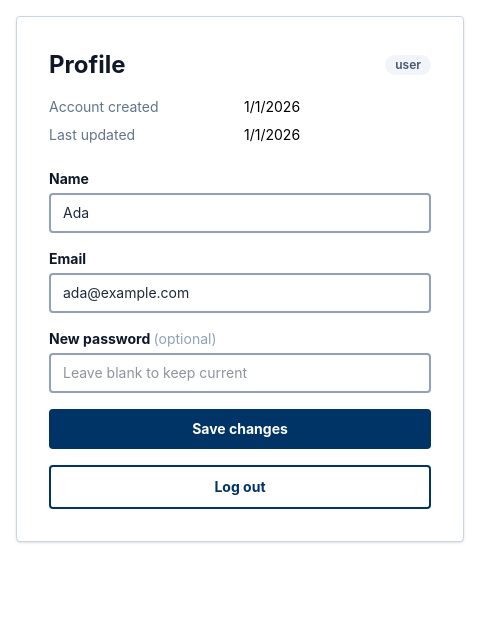
Test: Profile › prefills the form and saves profile changes
Replace the text in the field labelled "Name" with "Grace" at (240,213), box [49,193,431,233]
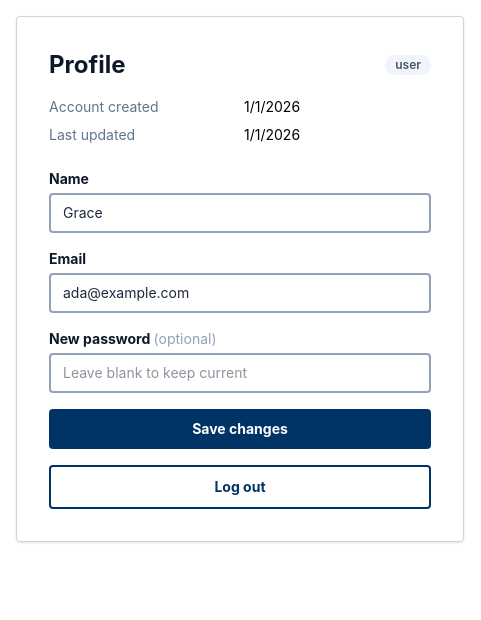
Click the button "Save changes" at (240,429), box [49,409,431,449]
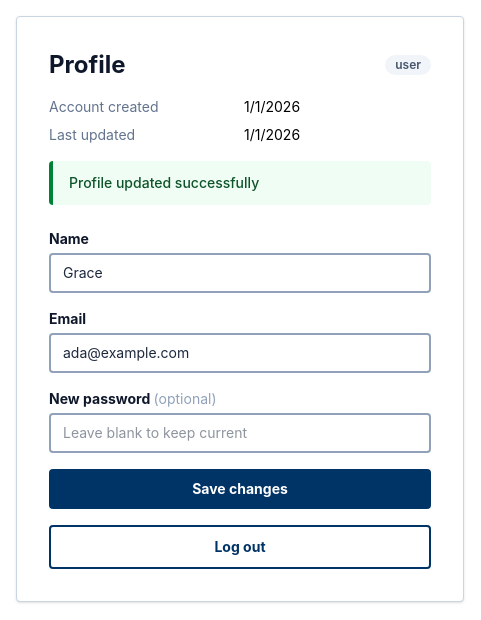
Expected: the text "Profile updated successfully" is shown, [49,161,431,205]
